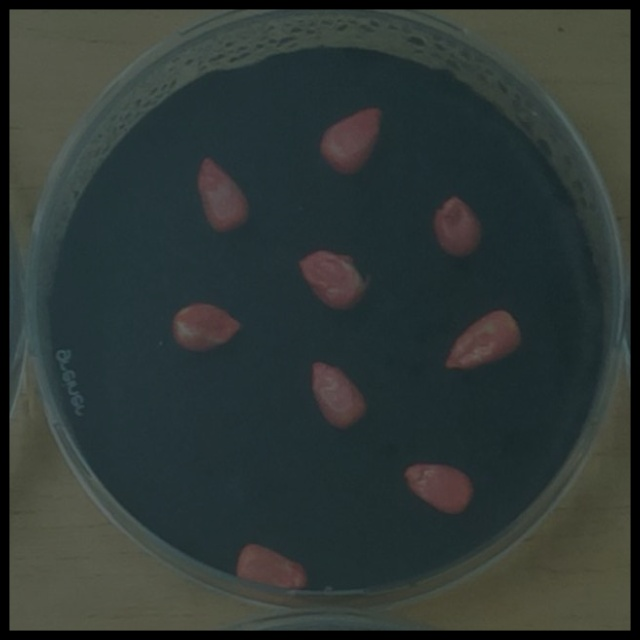Zea mays: (436, 301, 530, 378), (291, 245, 377, 320), (313, 103, 388, 183), (189, 151, 256, 240), (301, 354, 373, 436), (396, 455, 479, 524), (165, 296, 249, 358), (230, 538, 316, 597), (426, 189, 488, 264)
